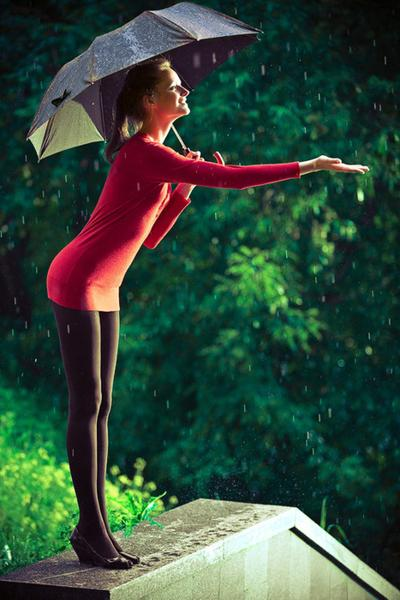person: (46, 56, 371, 571)
